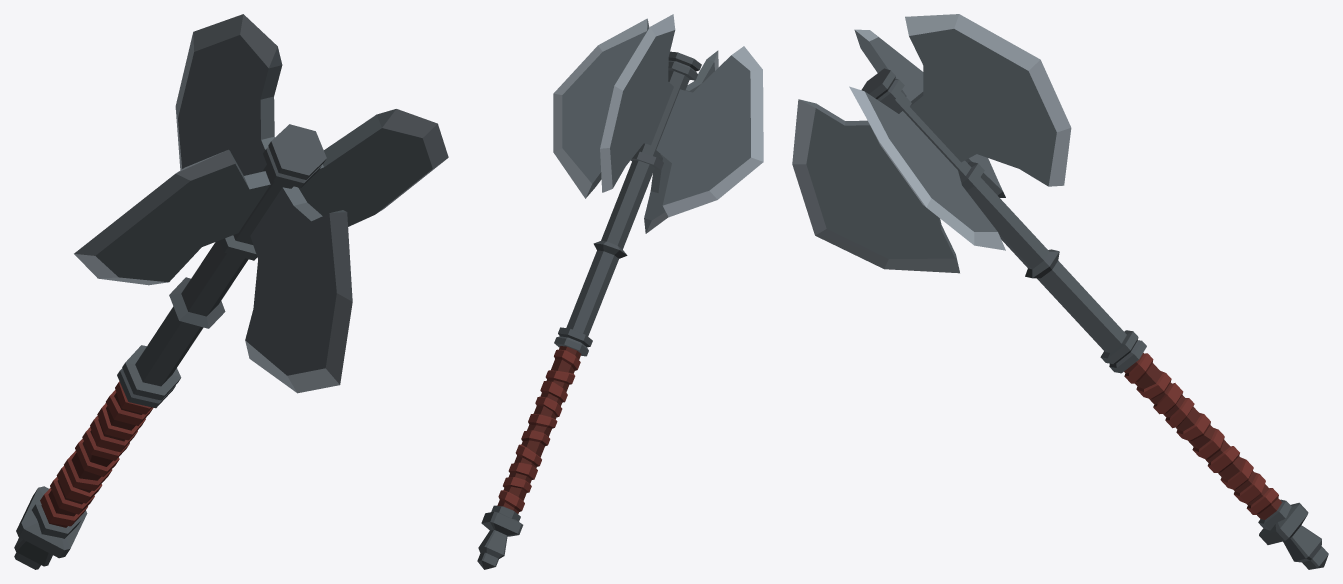
File: fk-axe-04.glb
The picture shows the model from 3 angles, left to right: view 1: azimuth 30°, elevation 25°; view 2: azimuth 150°, elevation 25°; view 3: azimuth 270°, elevation 25°; orthographic projection. The views are drawn at different scales.
Visible parts, largest first — view 1: fk-axe-04; view 2: fk-axe-04; view 3: fk-axe-04.
Part boxes in pixels (box(x1,y1,x2,y2)): fk-axe-04: box(14, 14, 448, 569); fk-axe-04: box(477, 14, 763, 569); fk-axe-04: box(792, 14, 1328, 569).
Size of the model in its own units: 0.637 by 1.23 by 1.1.
Materials: 1 (1 with a texture image).
